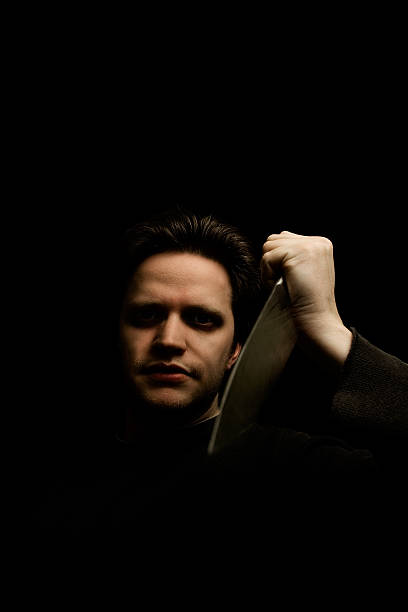knife: (207, 275, 303, 458)
